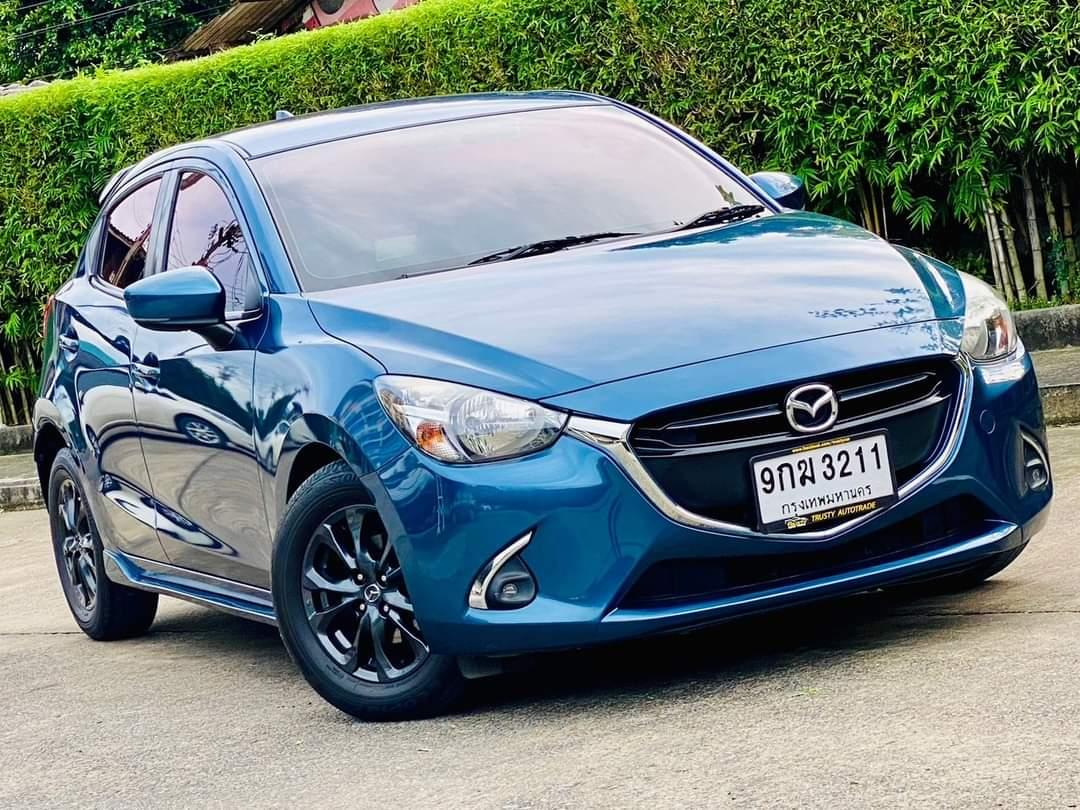license-plate: (744, 427, 903, 536)
